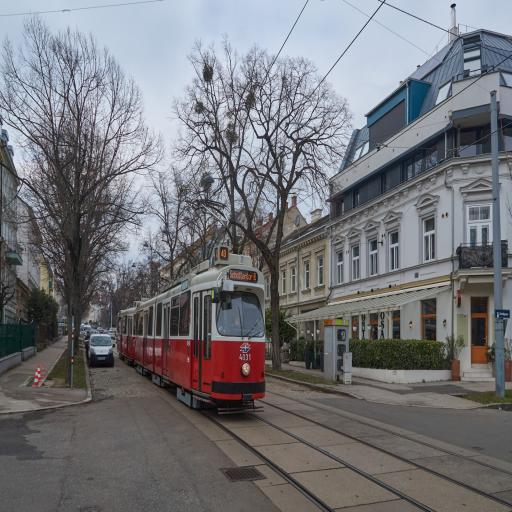E2-Tram: (120, 247, 268, 403)
